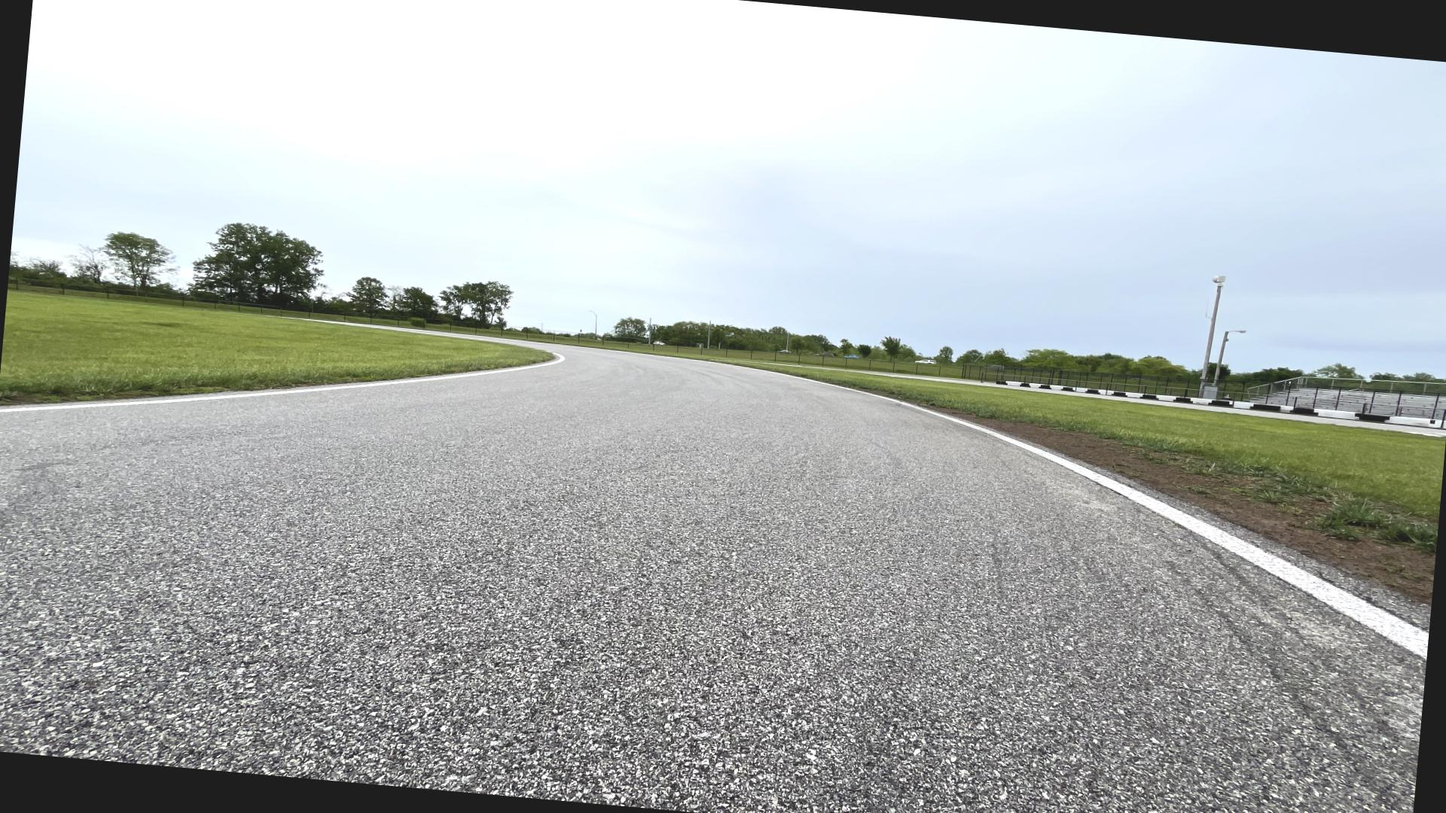white-line: (663, 357, 1429, 662), (0, 351, 564, 412)
